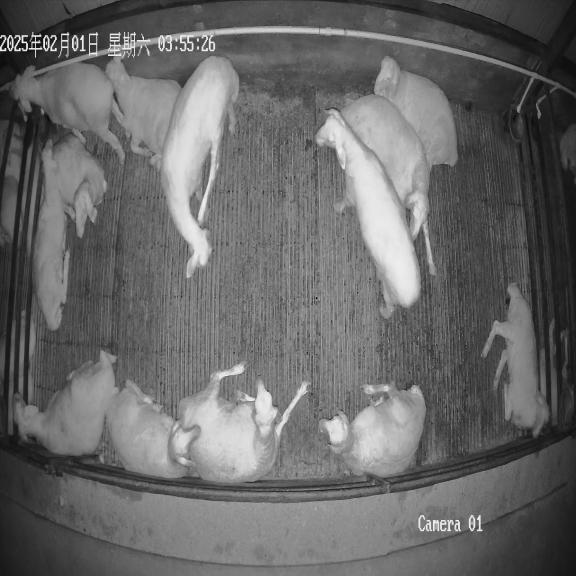lying: (339, 94, 436, 275), (179, 362, 307, 483), (14, 350, 116, 456), (482, 283, 549, 437), (319, 383, 426, 479), (374, 56, 458, 168), (106, 380, 199, 478), (106, 59, 181, 170), (33, 140, 70, 330), (52, 134, 107, 238)
stand: (315, 109, 421, 318), (160, 56, 239, 278), (10, 63, 125, 163)
